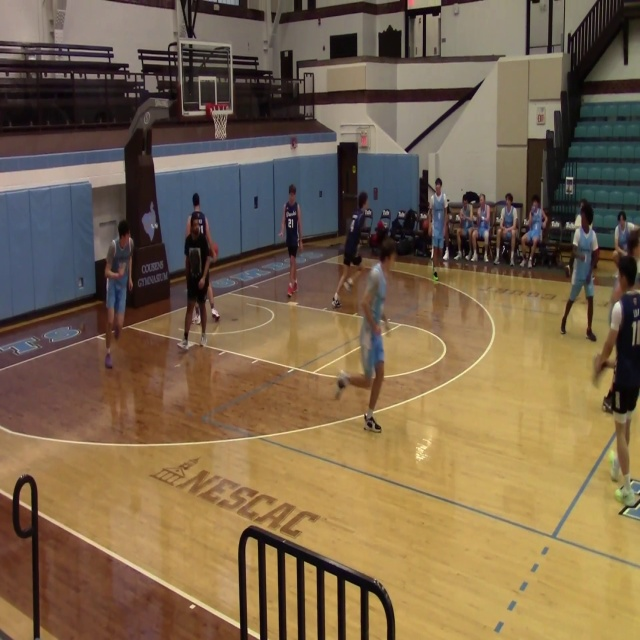Basketball: (188, 248, 202, 277)
